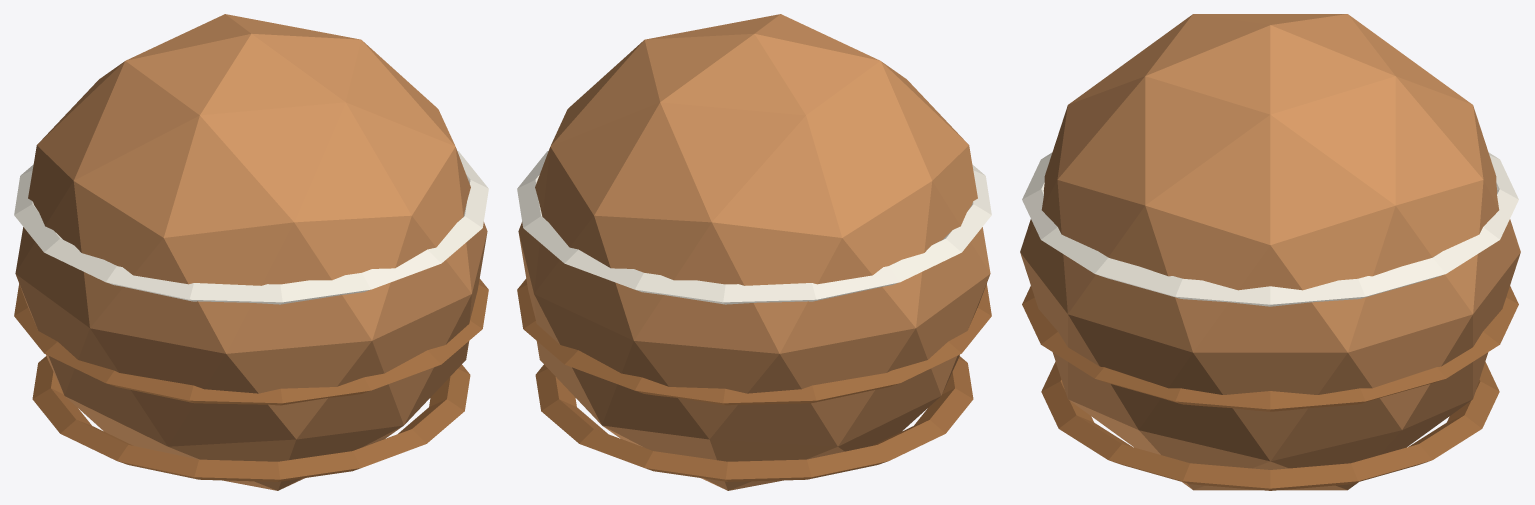
File: lowpoly-planet_jupiter.glb
3 views of the same model, side by side, from view 1: azimuth 30°, elevation 25°; view 2: azimuth 150°, elevation 25°; view 3: azimuth 270°, elevation 25° (orthographic). The views are drawn at different scales.
Parts seen in each view (by area): view 1: planet_jupiter; view 2: planet_jupiter; view 3: planet_jupiter.
Part boxes in pixels (x1,y1,x2,y2): planet_jupiter: [14, 14, 488, 490]; planet_jupiter: [517, 14, 991, 490]; planet_jupiter: [1020, 14, 1520, 490].
Bounding box in the file's own units: 2.58 × 2.6 × 2.6.
